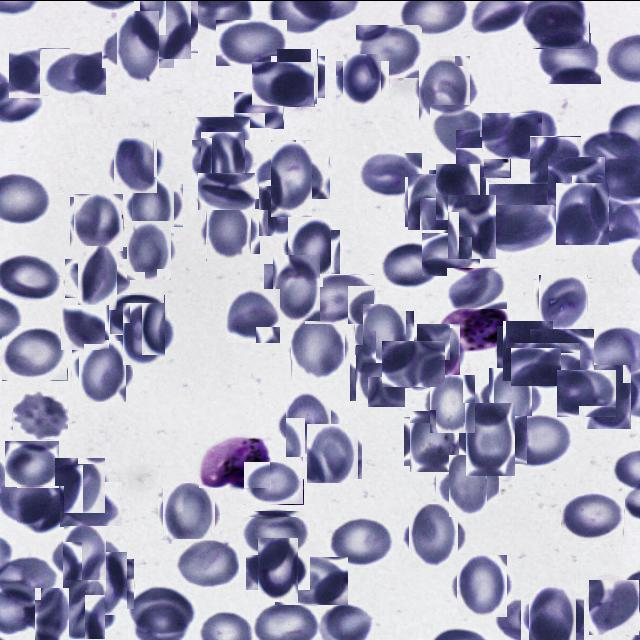difficult: (199, 435, 270, 487)
red blood cell: (460, 408, 520, 470), (2, 325, 68, 380), (262, 147, 322, 207), (304, 273, 374, 324), (501, 415, 570, 466), (275, 556, 348, 604), (356, 24, 422, 77), (415, 59, 474, 118), (534, 32, 600, 83), (289, 320, 347, 378), (160, 484, 218, 542), (268, 258, 326, 316), (554, 184, 612, 242), (484, 204, 554, 252), (174, 538, 238, 590), (530, 328, 594, 380), (214, 19, 286, 65), (127, 586, 196, 634), (405, 507, 462, 564), (110, 17, 167, 74), (74, 554, 130, 612), (561, 492, 625, 542), (137, 0, 195, 55), (454, 556, 509, 614), (327, 518, 396, 564), (488, 183, 550, 234), (281, 395, 337, 451), (286, 218, 342, 274), (580, 368, 636, 424), (304, 424, 360, 480), (353, 347, 409, 403), (57, 528, 113, 584), (500, 322, 556, 378), (407, 412, 462, 468), (511, 342, 581, 386), (444, 198, 499, 254), (430, 104, 488, 157), (242, 510, 310, 555), (9, 47, 70, 97), (40, 48, 106, 94), (76, 342, 130, 398), (382, 340, 446, 387), (536, 276, 591, 330), (202, 204, 256, 258), (226, 288, 280, 342), (196, 134, 250, 188), (548, 156, 606, 206), (557, 369, 617, 417), (72, 195, 126, 248), (13, 389, 69, 440), (525, 589, 581, 640), (359, 152, 422, 197), (252, 61, 315, 106), (406, 175, 459, 228), (54, 458, 107, 511), (484, 372, 538, 424), (482, 112, 542, 158), (358, 306, 411, 358), (252, 542, 304, 595), (118, 306, 170, 359), (504, 108, 558, 159), (589, 579, 639, 634), (60, 481, 122, 525), (528, 4, 590, 48), (256, 180, 308, 232), (123, 224, 175, 276), (72, 252, 124, 304), (426, 378, 478, 430), (383, 240, 440, 287), (530, 135, 581, 187), (456, 129, 511, 177), (128, 179, 179, 230), (422, 232, 481, 276), (244, 461, 304, 504), (447, 267, 508, 309), (414, 327, 464, 378), (432, 166, 482, 217), (59, 584, 110, 634), (110, 140, 160, 190), (442, 460, 492, 510), (5, 440, 59, 486), (274, 52, 322, 100), (17, 484, 64, 532), (61, 303, 109, 350), (27, 595, 77, 640), (110, 294, 165, 334), (340, 56, 386, 102), (198, 172, 255, 209), (195, 116, 250, 154), (234, 91, 284, 128)
trophozoite: (438, 304, 510, 351)
